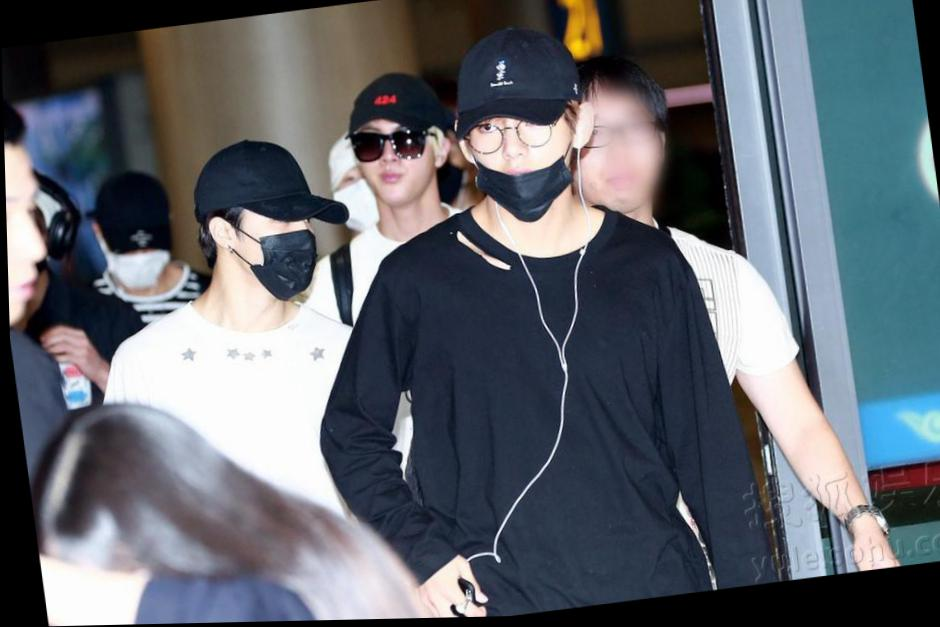NONE: (5, 186, 60, 330), (353, 120, 440, 206)
OK: (224, 206, 324, 304), (103, 230, 175, 294)
WRONG: (465, 98, 582, 214)
